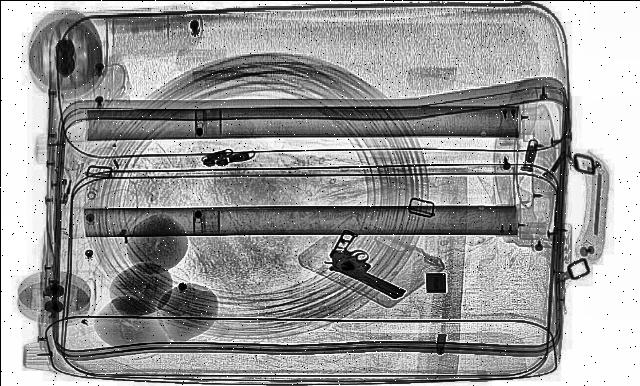Gun: (304, 229, 436, 297)
